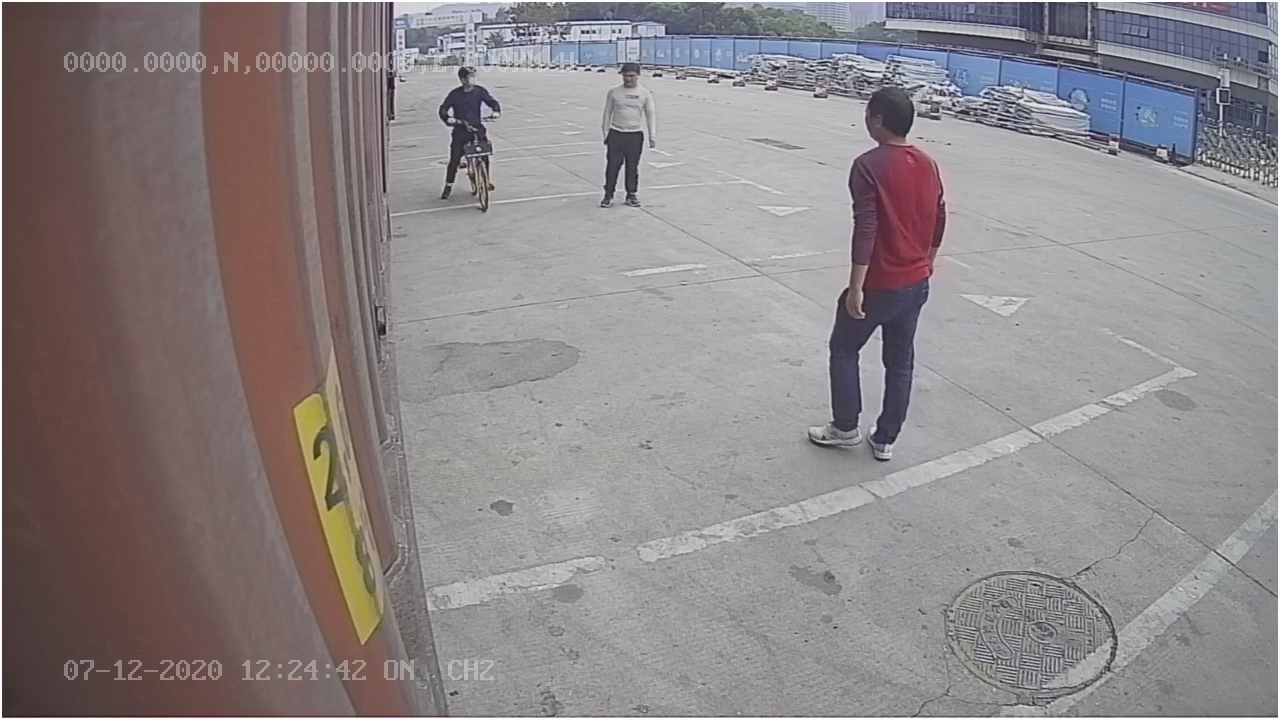person: (801, 84, 951, 469), (596, 58, 661, 212)
